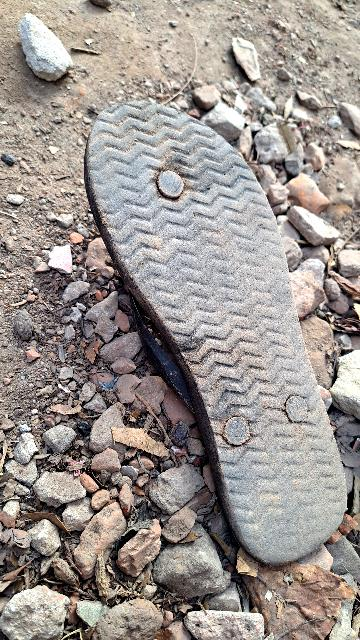sandal: (69, 84, 360, 607)
